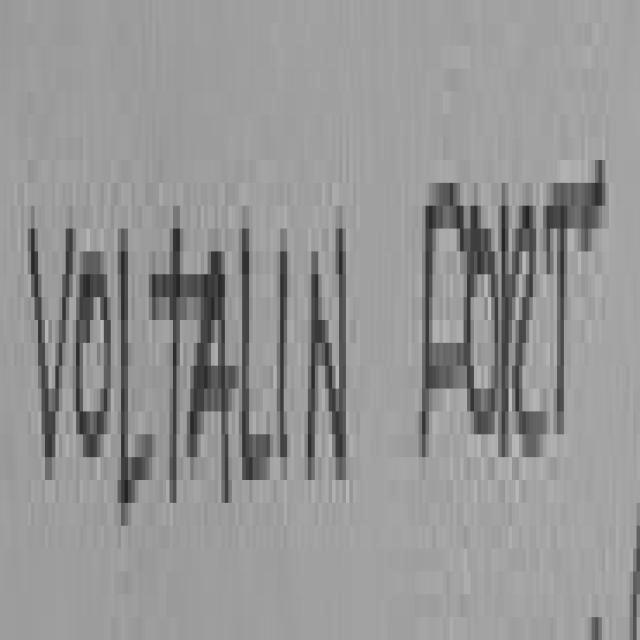A: (190, 251, 232, 491)
F: (422, 183, 469, 446)
I: (280, 251, 287, 446)
L: (121, 229, 152, 491), (242, 229, 270, 480)
N: (308, 240, 346, 480)
O: (467, 206, 502, 434), (76, 251, 111, 457)
R: (502, 206, 547, 457)
T: (552, 160, 609, 423), (152, 229, 206, 491)
V: (31, 229, 73, 480)
